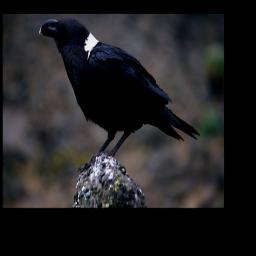Crow: (38, 18, 201, 175)
